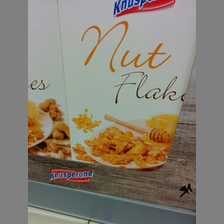cereal: (57, 1, 195, 172)
